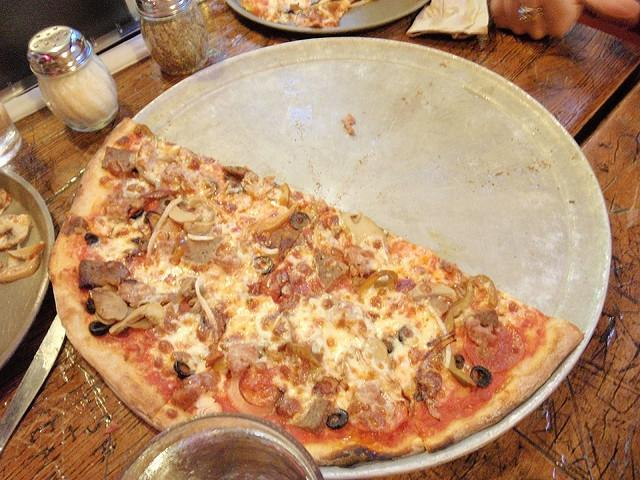bell pepper: (446, 274, 498, 332), (314, 248, 350, 294), (357, 269, 398, 304), (260, 203, 298, 231), (448, 364, 476, 386), (204, 347, 224, 368), (278, 182, 291, 206)
mushroom: (109, 302, 164, 336), (292, 400, 332, 434), (92, 285, 128, 321), (168, 205, 196, 226), (291, 212, 311, 230)
onion: (444, 274, 498, 332), (414, 332, 456, 400), (227, 376, 284, 418), (427, 306, 452, 370), (290, 399, 333, 436), (195, 276, 218, 342), (259, 202, 299, 232), (358, 270, 398, 298), (153, 197, 182, 232), (120, 179, 150, 199), (168, 204, 194, 226), (367, 338, 388, 362), (146, 229, 162, 258), (187, 232, 214, 241), (206, 224, 222, 236)
